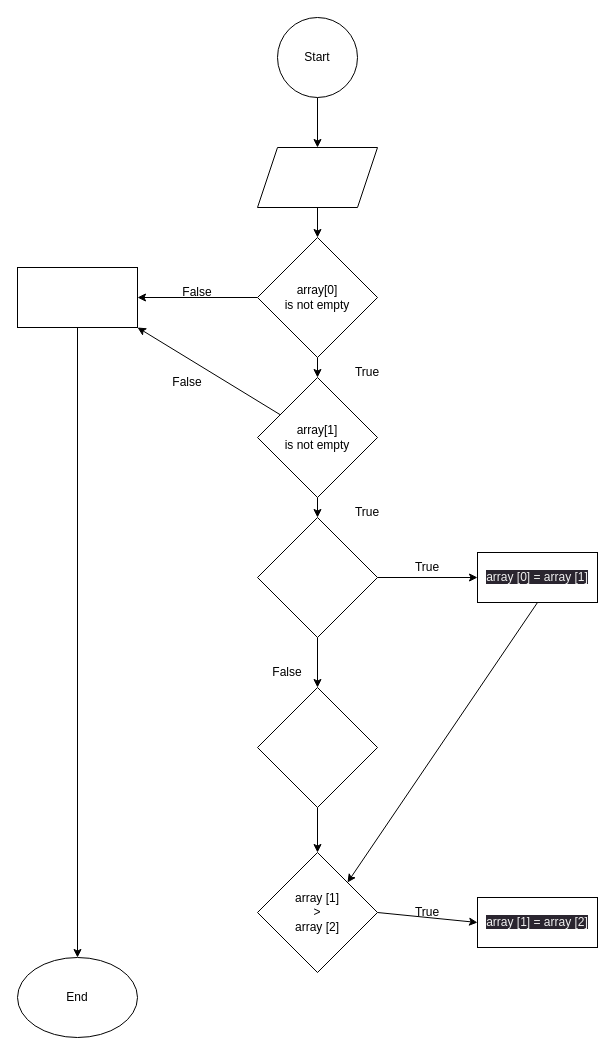
Some shapes in this 615 by 1055 pixel diagram are drawn without their labels. The centre of each missing label's shape, as x and y in pixels:
array [0] > array [1]: pixel 317 577
array[2] is not empty: pixel 317 747
INPUT random array {...,...,...,..,...}: pixel 317 177
